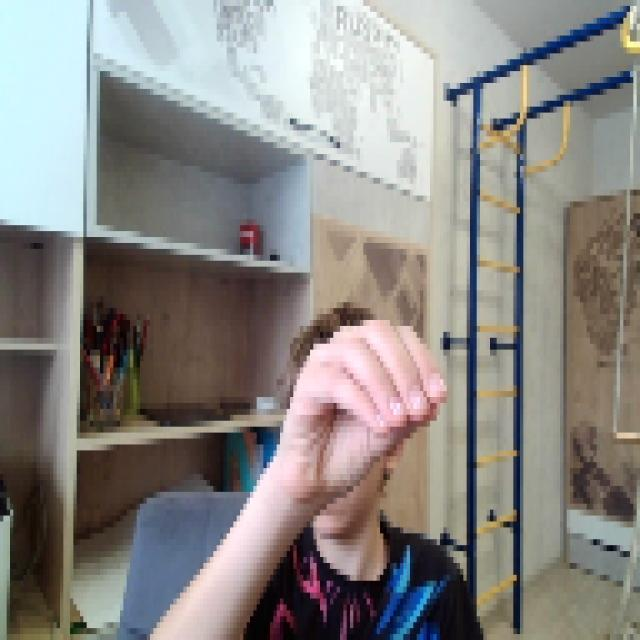left_click: (284, 308, 444, 486)
